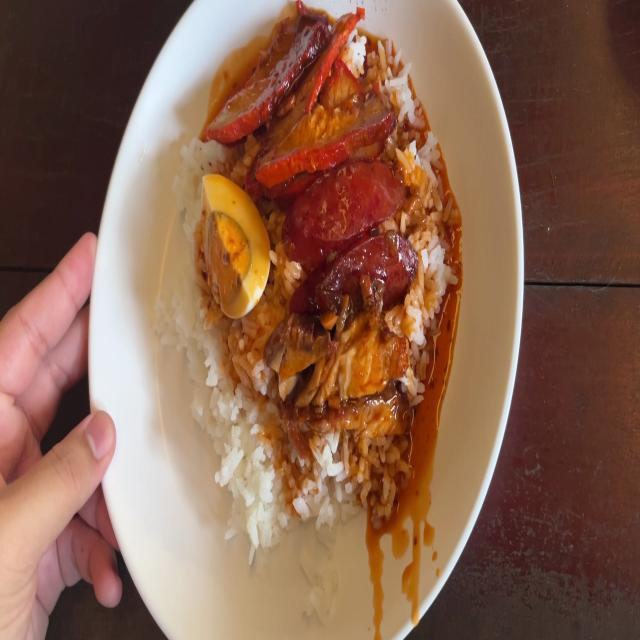red_pork_and_crispy_pork: (202, 179, 265, 309)
stir_fried_basil: (291, 167, 410, 313)
